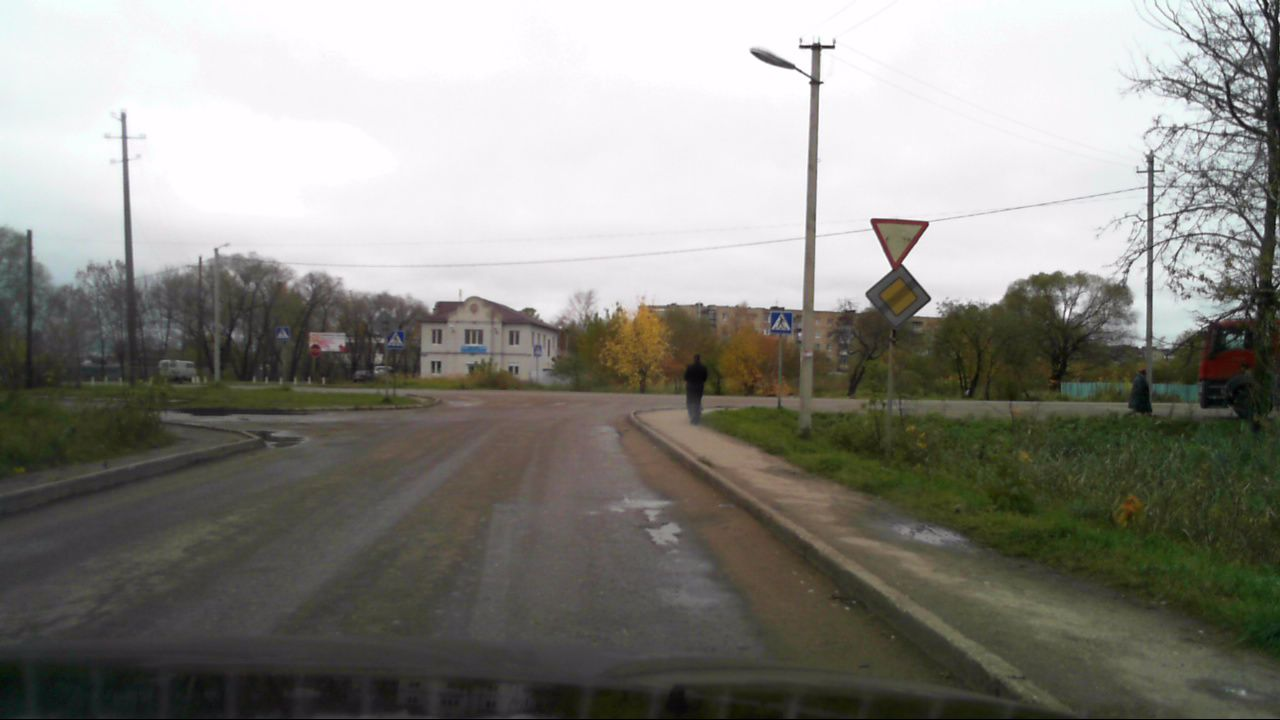main road: (863, 264, 930, 331)
